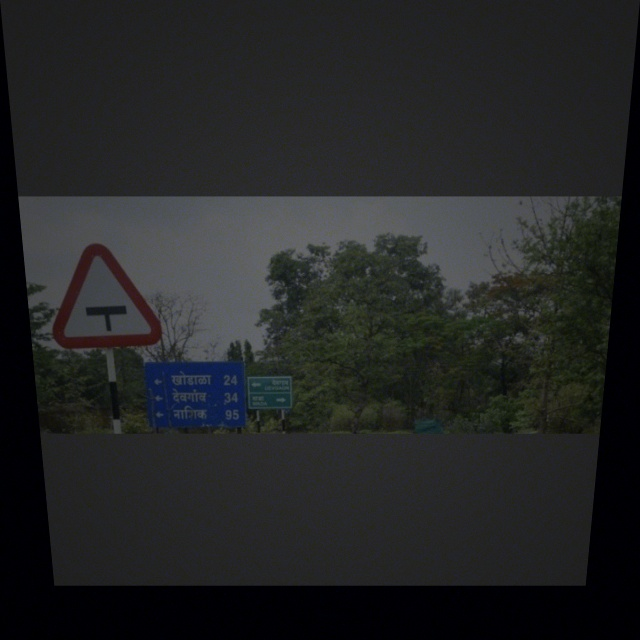T_Intersection: (42, 241, 168, 358)
